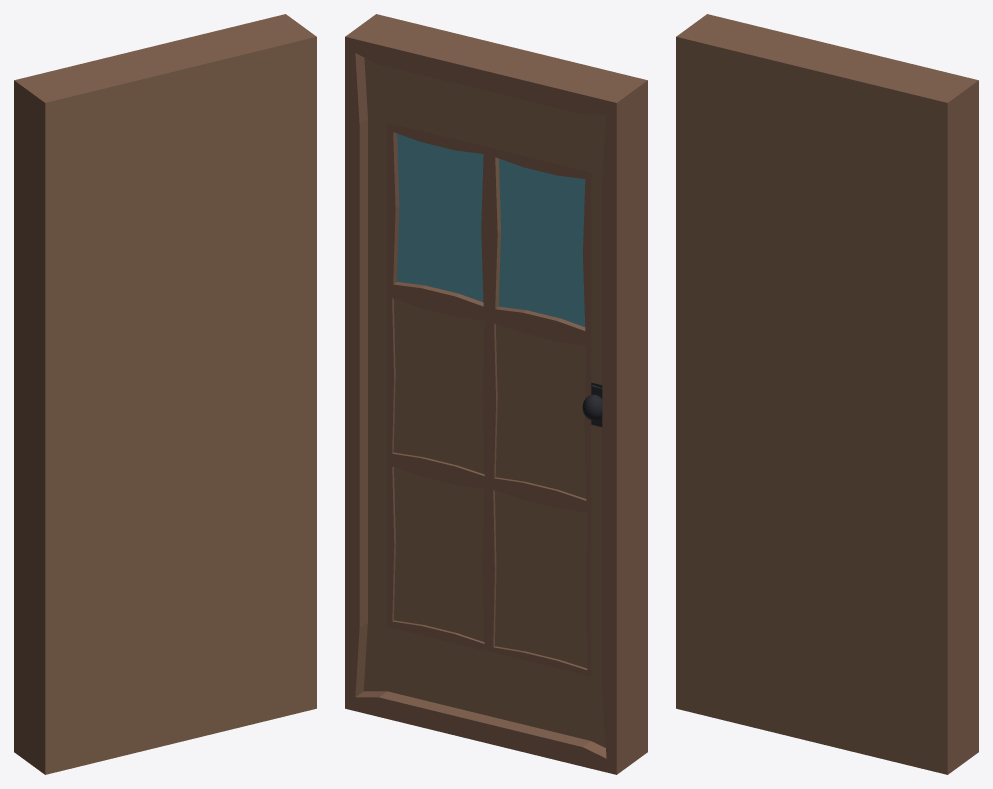
The model's file is door_1.fbx.
3 renders of one model, left to right at view 1: azimuth 30°, elevation 25°; view 2: azimuth 150°, elevation 25°; view 3: azimuth 330°, elevation 25°, orthographic.
Visible parts, largest first — view 1: Cube; view 2: Cube; view 3: Cube.
Part boxes in pixels (bbox=[...]): Cube: bbox=[14, 14, 316, 774]; Cube: bbox=[345, 14, 647, 774]; Cube: bbox=[676, 14, 978, 774].
Bounding box in the file's own units: 175 × 413 × 37.75.
